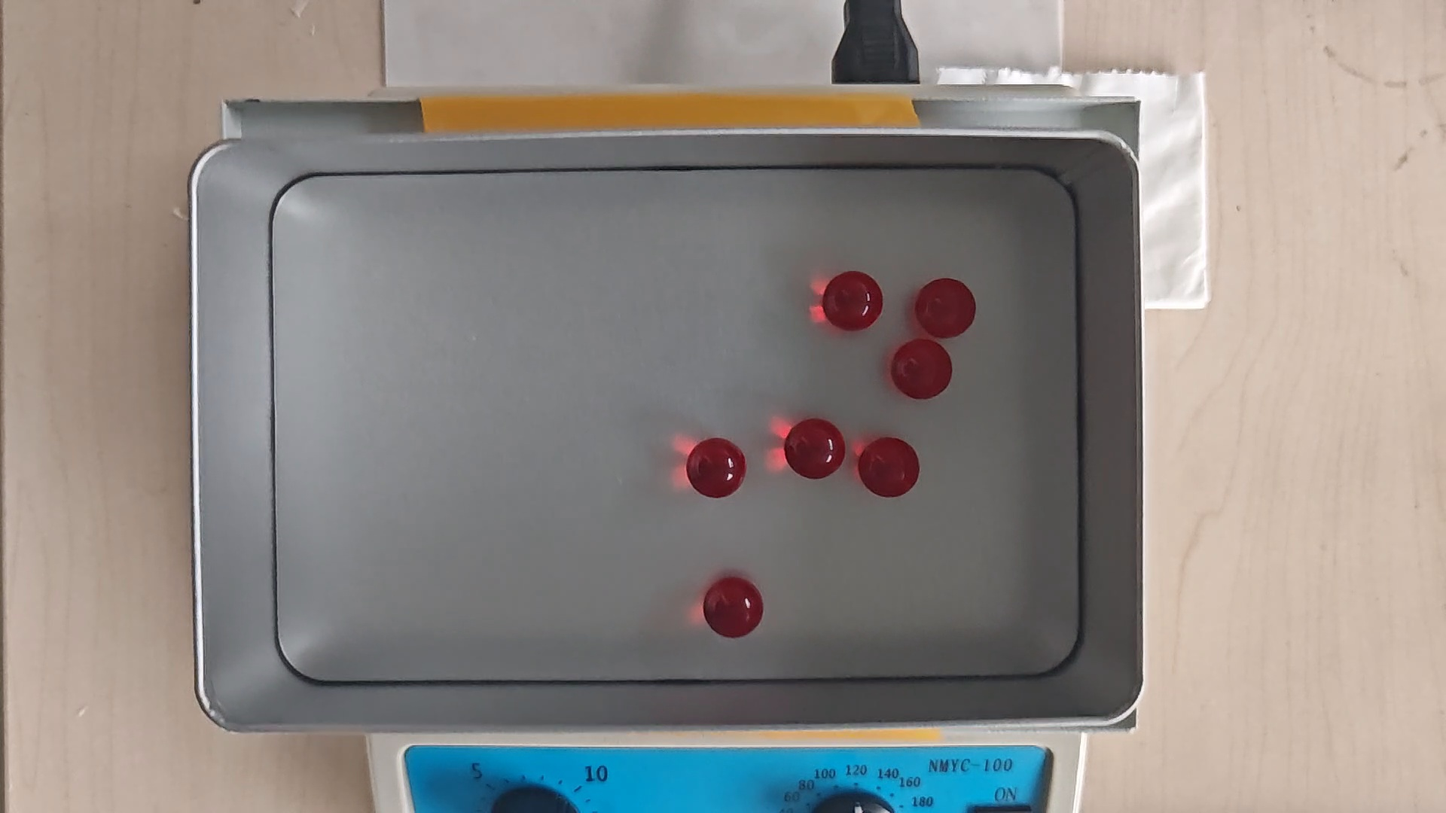ball: (783, 418, 846, 481), (858, 437, 920, 499), (889, 340, 953, 400), (685, 437, 746, 499), (703, 576, 764, 638), (914, 278, 977, 338), (823, 273, 884, 331)
container: (270, 168, 1082, 679)
